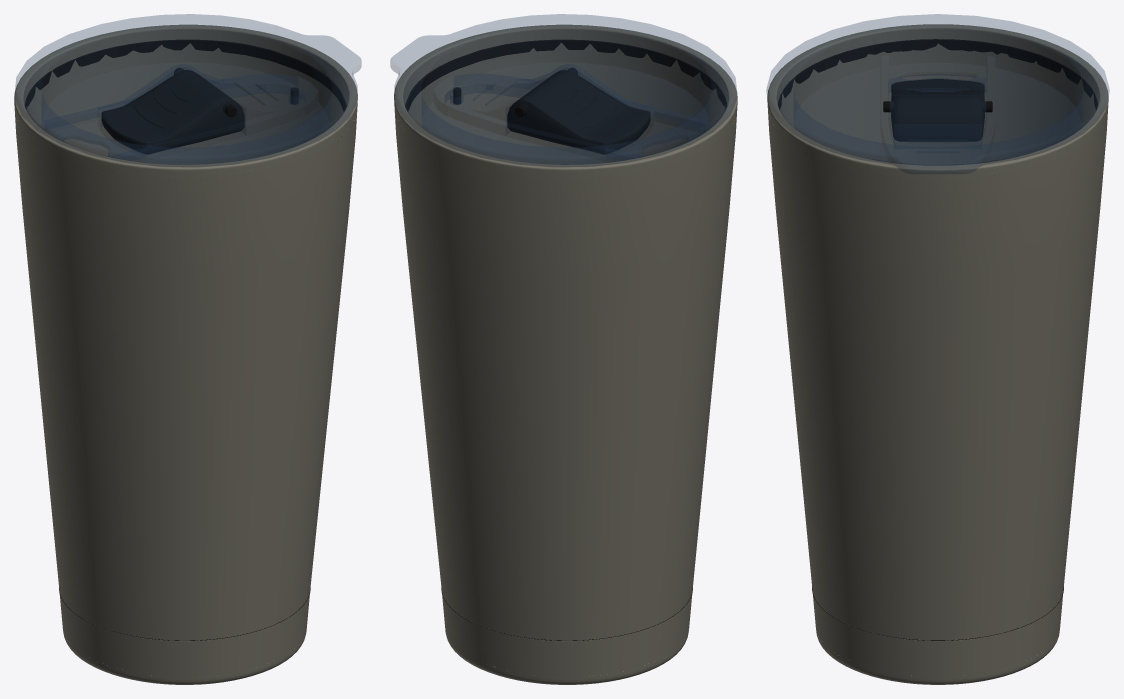
File: bandit.glb
The picture shows the model from 3 angles, left to right: view 1: azimuth 30°, elevation 25°; view 2: azimuth 150°, elevation 25°; view 3: azimuth 270°, elevation 25°; orthographic projection.
Visible parts, largest first — view 1: Main Body, Lid, Object001, Hard Plastic, Soft Plastic; view 2: Main Body, Lid, Object001, Hard Plastic, Soft Plastic; view 3: Main Body, Lid, Object001, Hard Plastic, Soft Plastic.
Boxes of the visible parts, x1,y1,x2,y2 form: Main Body: [14, 110, 357, 676]; Lid: [14, 14, 361, 166]; Object001: [14, 24, 357, 684]; Hard Plastic: [101, 67, 298, 154]; Soft Plastic: [24, 39, 346, 640]; Main Body: [394, 110, 737, 676]; Lid: [390, 14, 736, 166]; Object001: [394, 24, 737, 684]; Hard Plastic: [453, 67, 650, 154]; Soft Plastic: [405, 39, 727, 640]; Main Body: [768, 111, 1107, 676]; Lid: [766, 14, 1109, 173]; Object001: [767, 24, 1108, 684]; Hard Plastic: [883, 79, 992, 141]; Soft Plastic: [778, 39, 1097, 640].
Bounding box in the file's own units: 0.092 × 0.1555 × 0.0878.
Materials: 5 (1 with a texture image).
